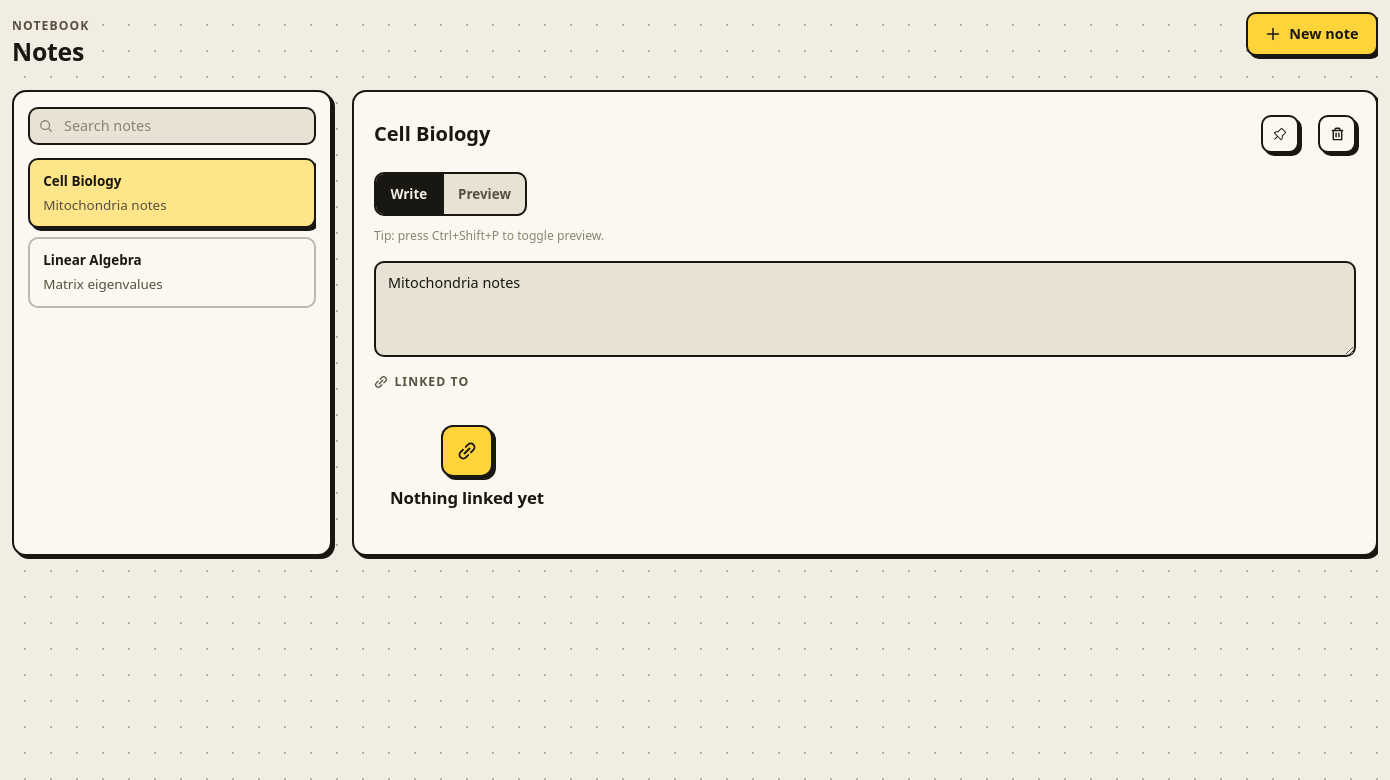
Test: Throughline Inkline E2E Test Suite › Tier 1: Feature Coverage › Notes View › T1.23: supports searching and filtering notes by query in notes list
Expected: the text "Cell Biology" is shown, [43,171,121,191]
Expected: the text "Linear Algebra" is shown, [43,250,142,270]
Type "Linear" into the field labelled "Search notes" at (172, 126), box [28,107,316,145]
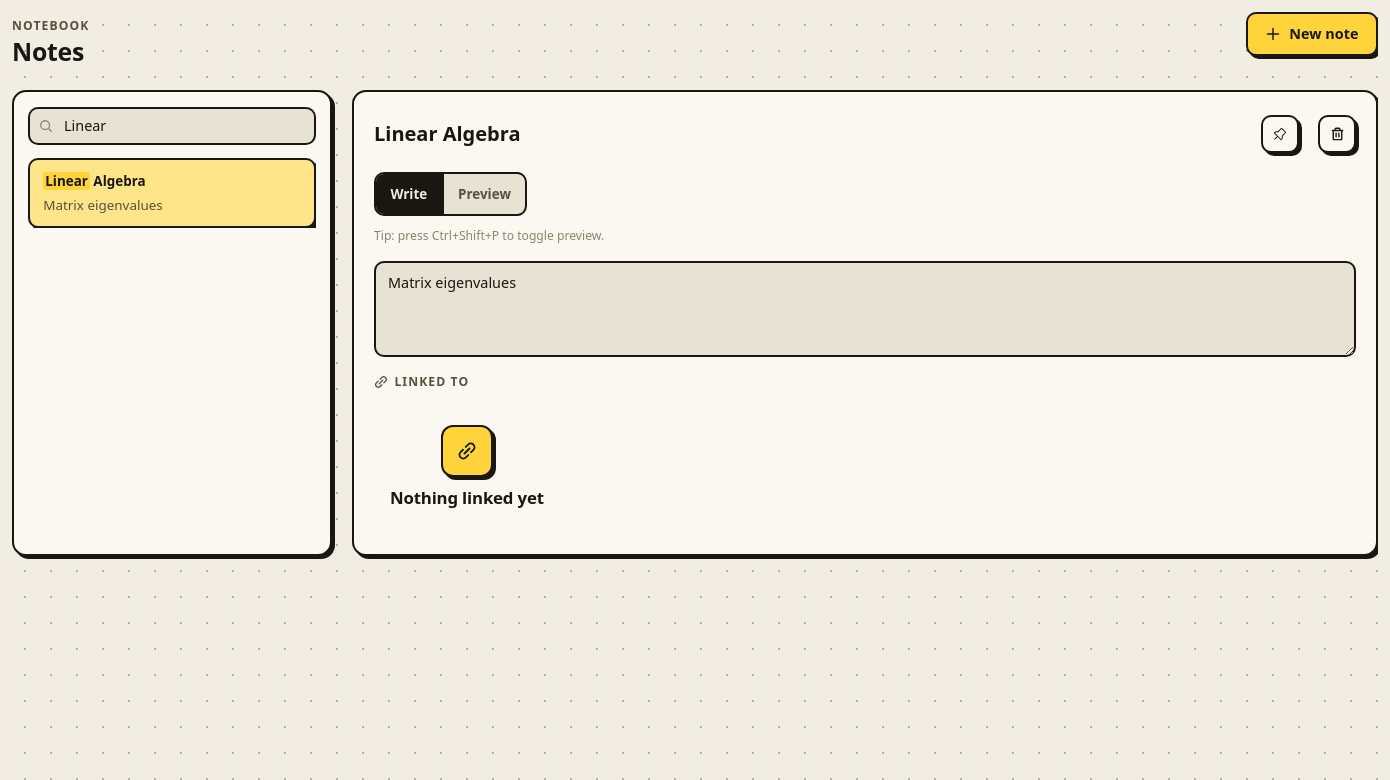
Expected: the text "Linear" is shown, [43,172,90,190]
Expected: the button "Cell Biology" is gone
